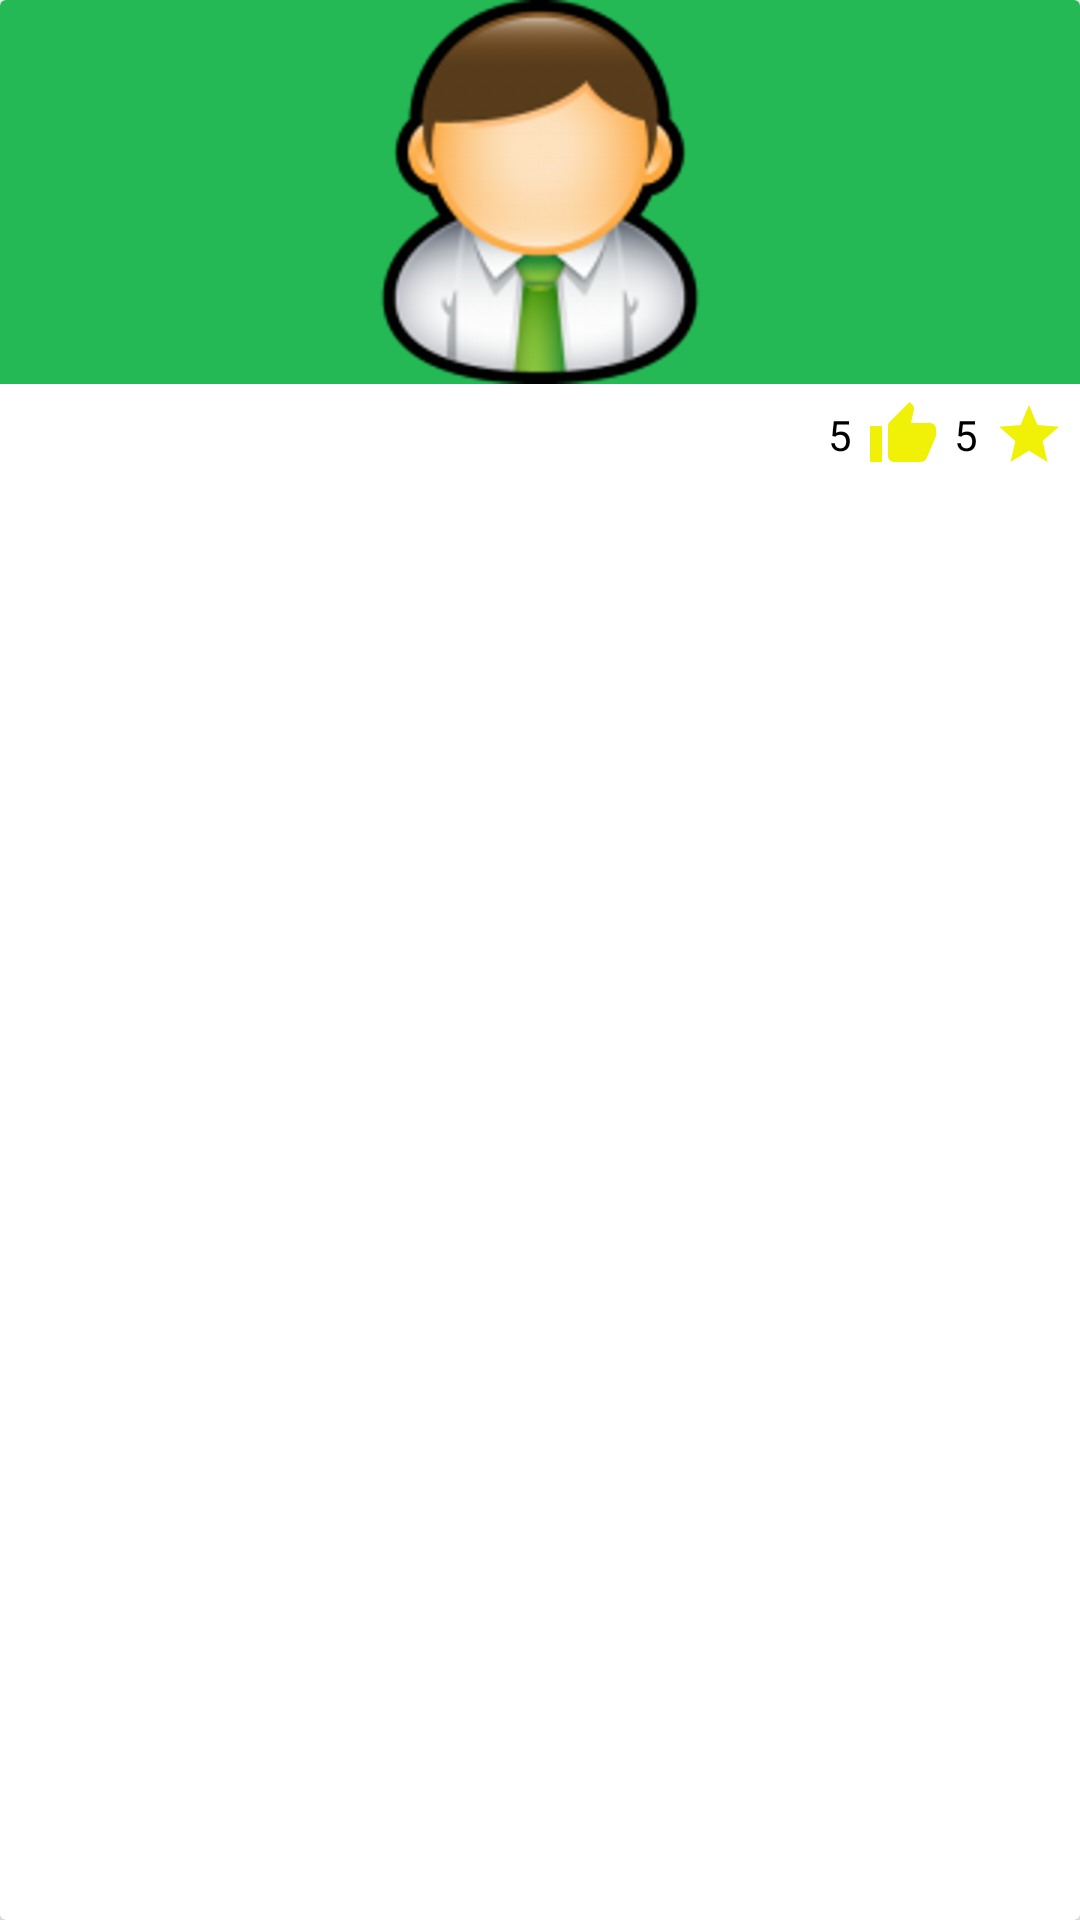

Icon click points for this 1080x1920 phone screenshot, format point (x, y):
like hl: point (903, 432)
star: point (1029, 433)
